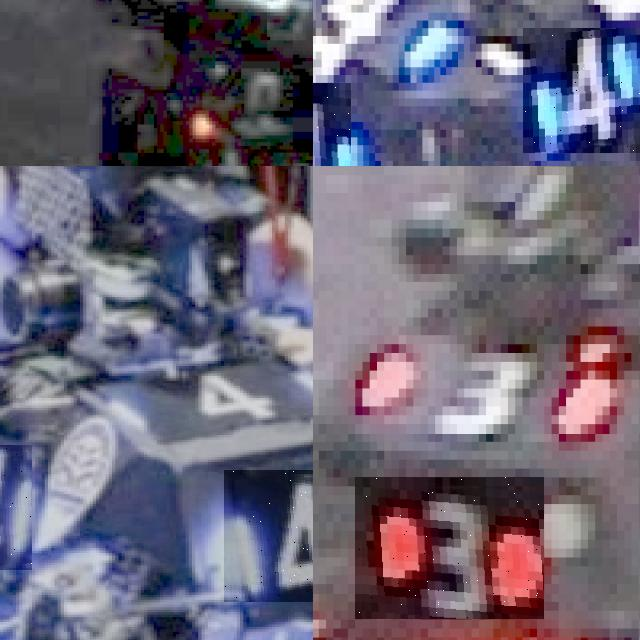B4: (523, 28, 640, 153), (224, 469, 313, 602), (0, 444, 31, 570), (313, 83, 351, 166)
R3: (355, 478, 544, 620)
